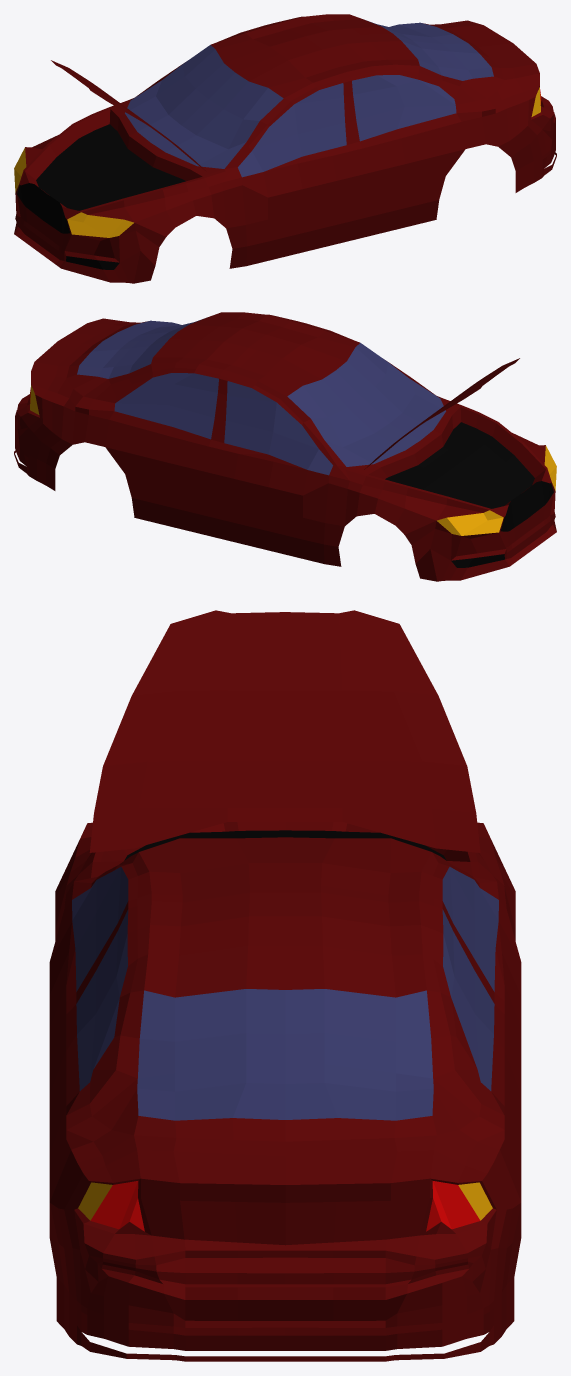
Rendered from latestsedan_trial.fbx.
3 views of the same model, one above another, from view 1: azimuth 30°, elevation 25°; view 2: azimuth 150°, elevation 25°; view 3: azimuth 270°, elevation 25° (orthographic). The views are drawn at different scales.
Parts seen in each view (by area): view 1: pPlane5, pPlane7; view 2: pPlane5, pPlane7; view 3: pPlane5, pPlane7.
Part boxes in pixels (left/top/right/bottom): pPlane5: left=14, top=14, right=556, bottom=283; pPlane7: left=51, top=60, right=206, bottom=171; pPlane5: left=14, top=312, right=556, bottom=581; pPlane7: left=364, top=358, right=519, bottom=469; pPlane5: left=49, top=822, right=521, bottom=1361; pPlane7: left=89, top=610, right=480, bottom=852.
Size of the model in its own units: 17.66 by 6.1 by 7.42.
